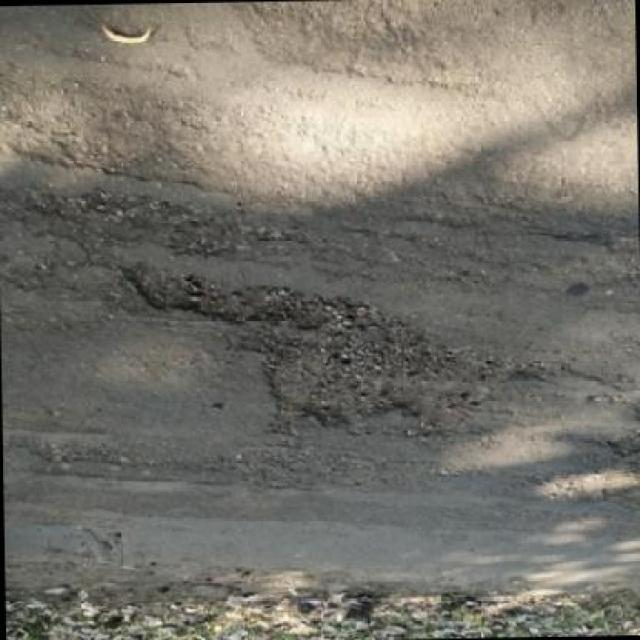pothole: (120, 251, 558, 446), (603, 423, 639, 463)
